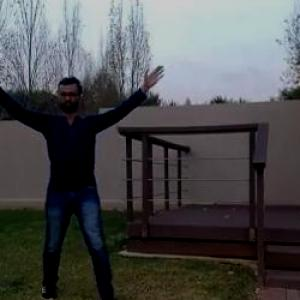takeoff: (0, 49, 189, 299)
